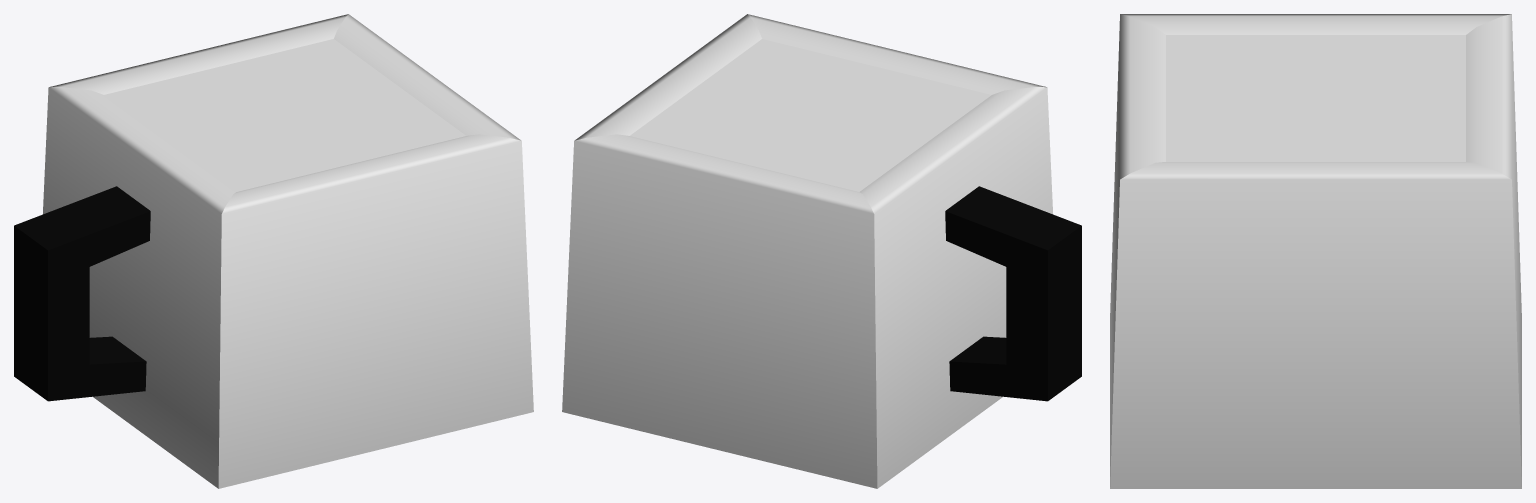
File: SM_Mug.fbx
3 views of the same model, side by side, from view 1: azimuth 30°, elevation 25°; view 2: azimuth 150°, elevation 25°; view 3: azimuth 270°, elevation 25° (orthographic). The views are drawn at different scales.
Parts seen in each view (by area): view 1: SM_Mug_Overflow, SM_Mug_Liquid, SM_Mug; view 2: SM_Mug_Overflow, SM_Mug_Liquid, SM_Mug; view 3: SM_Mug_Overflow, SM_Mug_Liquid.
Part boxes in pixels (left/top/right/bottom): SM_Mug_Overflow: left=43, top=14, right=533, bottom=488; SM_Mug_Liquid: left=104, top=39, right=465, bottom=191; SM_Mug: left=14, top=186, right=150, bottom=401; SM_Mug_Overflow: left=562, top=14, right=1052, bottom=488; SM_Mug_Liquid: left=630, top=39, right=991, bottom=191; SM_Mug: left=945, top=186, right=1081, bottom=401; SM_Mug_Overflow: left=1110, top=14, right=1521, bottom=488; SM_Mug_Liquid: left=1166, top=35, right=1465, bottom=161.
Size of the model in its own units: 0.4883 by 0.3076 by 0.3739.
